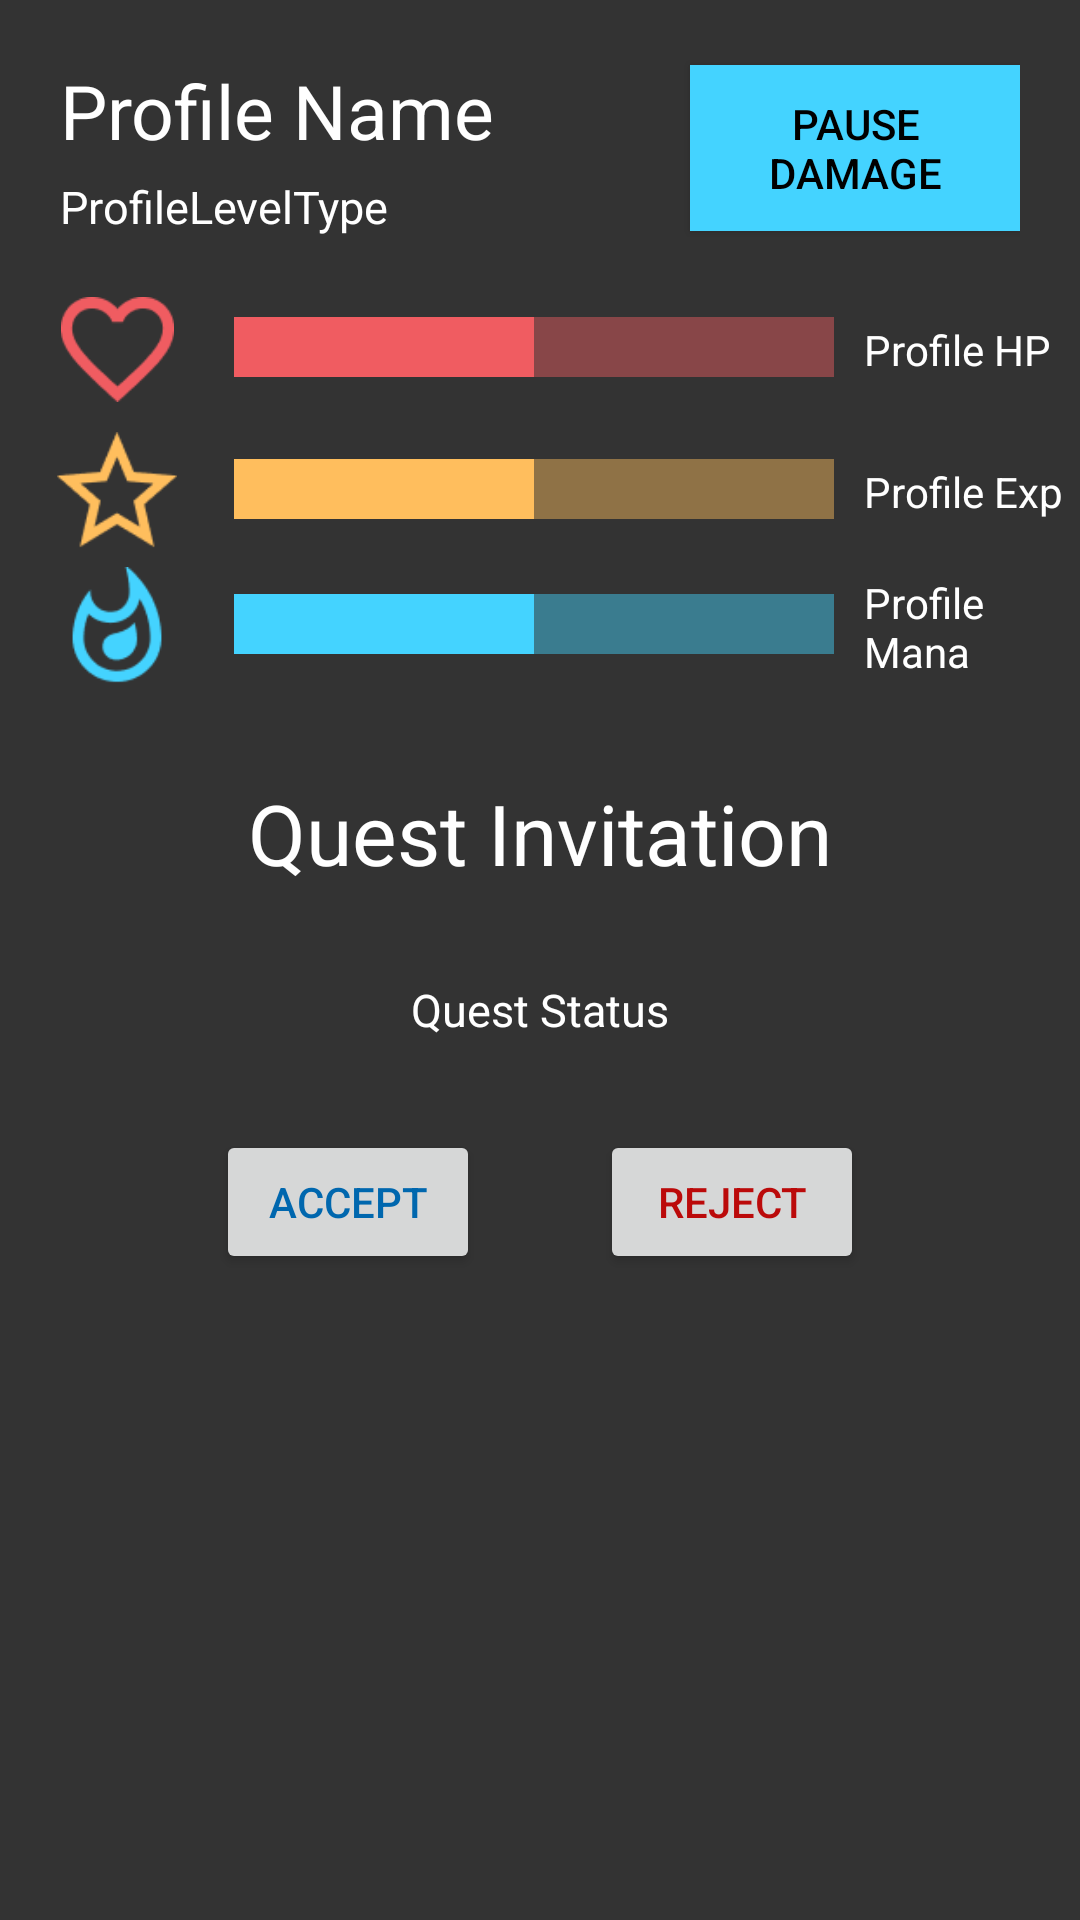

Locate icon controls on the screen. Image size 1080*1920, boxes as (x1, y1, x2, y2).
exp: (57, 432, 177, 547)
health: (61, 297, 174, 402)
mana: (72, 567, 162, 682)
